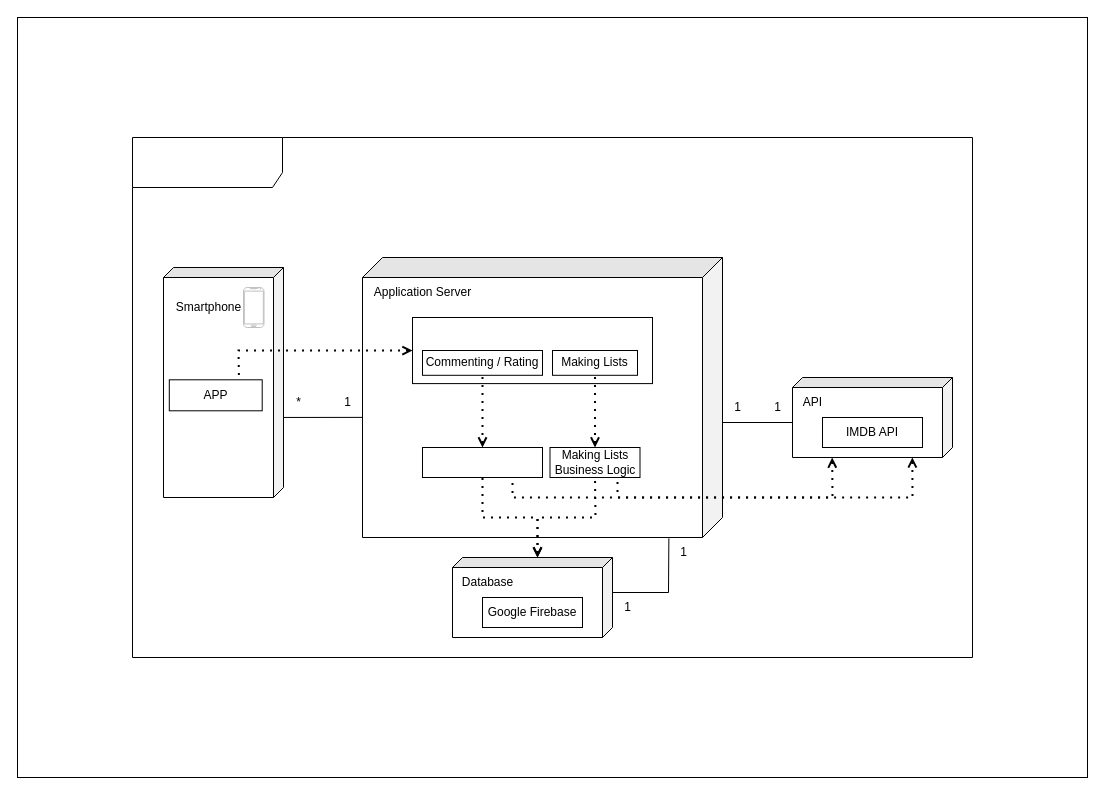
This 1105x795 diagram has some shape labels left out. The box of each missing label's shape, as (x1, y1, x2, y2) in pixels:
Commenting / Rating Business Logic: (422, 446, 542, 478)
Deployment View: (132, 136, 972, 658)
UI: (412, 316, 652, 384)
